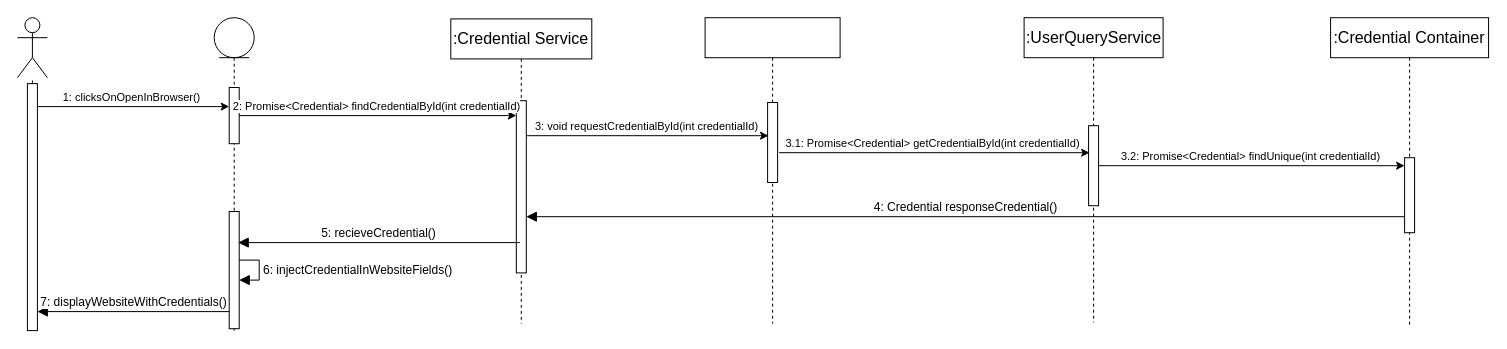
This 1507x349 diagram has some shape labels left out. The centre of each missing label's shape, as x and y in pixels:
":IpcMainHandler" belongs at point 772,170.
"GUI" belongs at point 233,174.
